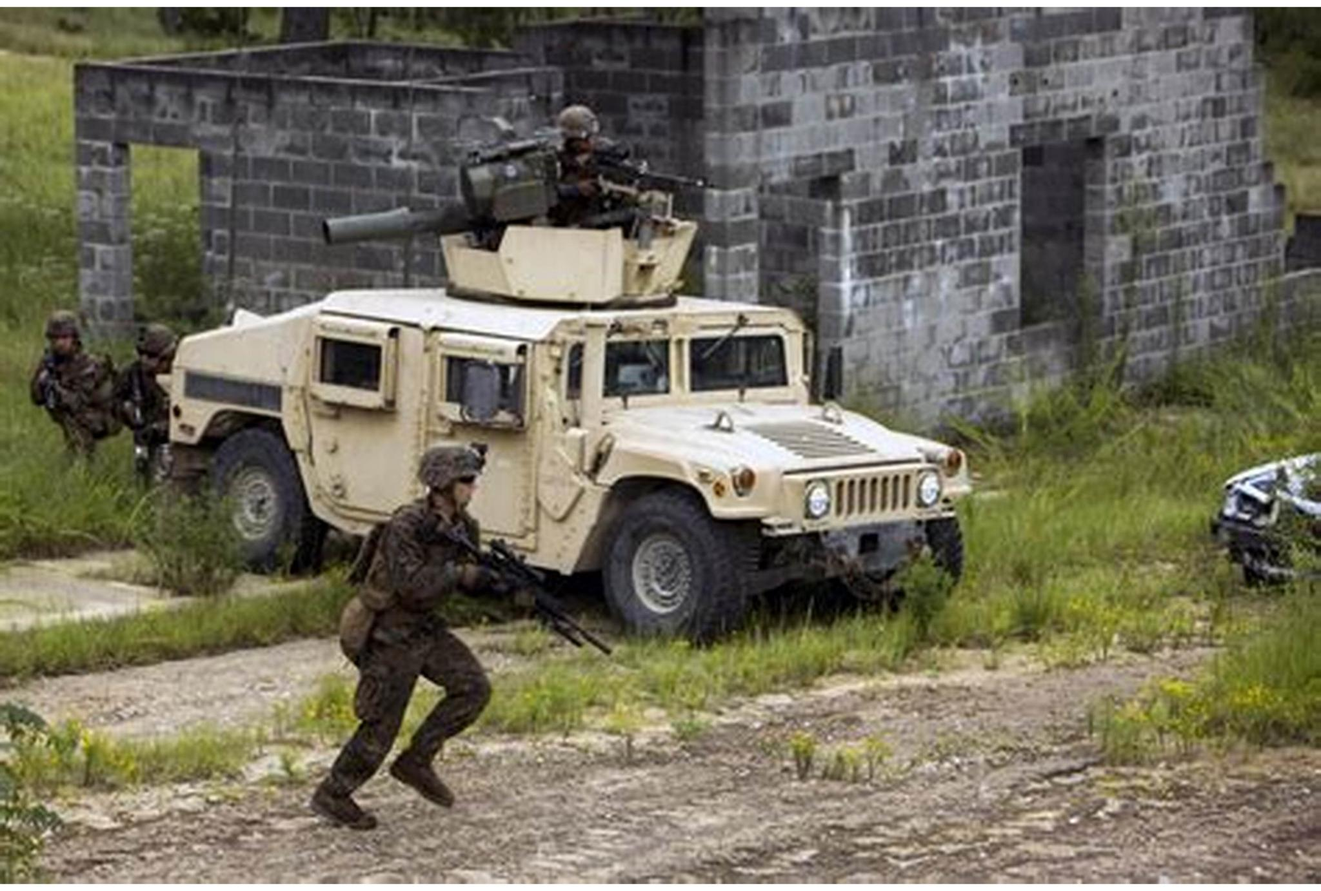armored_car: (162, 95, 980, 640)
